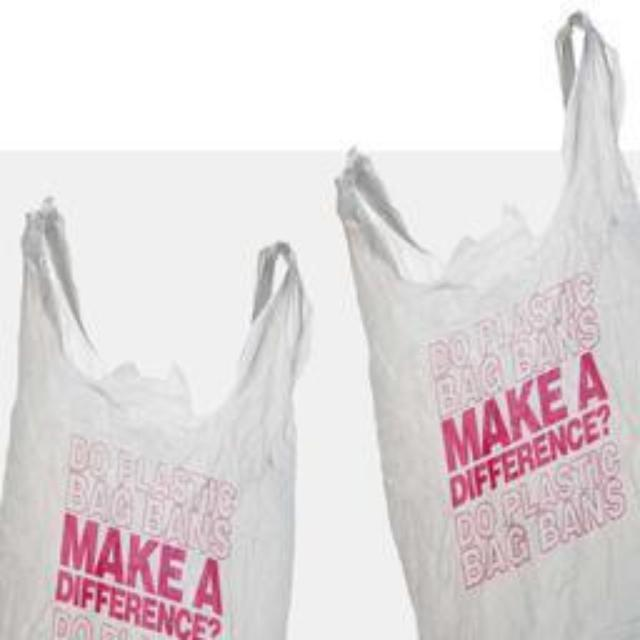Bolsa-de-nilon: (339, 12, 640, 640), (0, 194, 311, 640)
